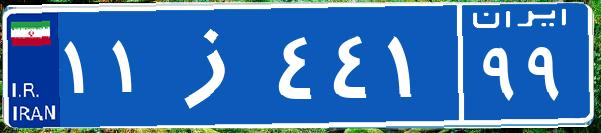1: (385, 28, 445, 110), (57, 26, 110, 107), (110, 28, 158, 105)
4: (273, 28, 330, 110), (330, 28, 385, 110)
9: (475, 38, 525, 113), (525, 38, 570, 115)
ز: (158, 15, 273, 115)
